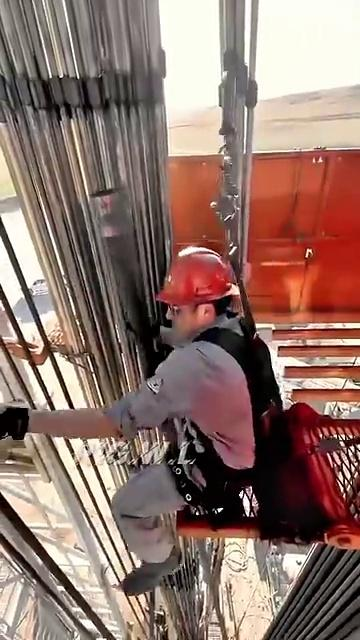gloves: (3, 402, 30, 452)
helmet: (147, 253, 248, 302)
shoes: (120, 560, 210, 588)
worker: (0, 213, 303, 617)
